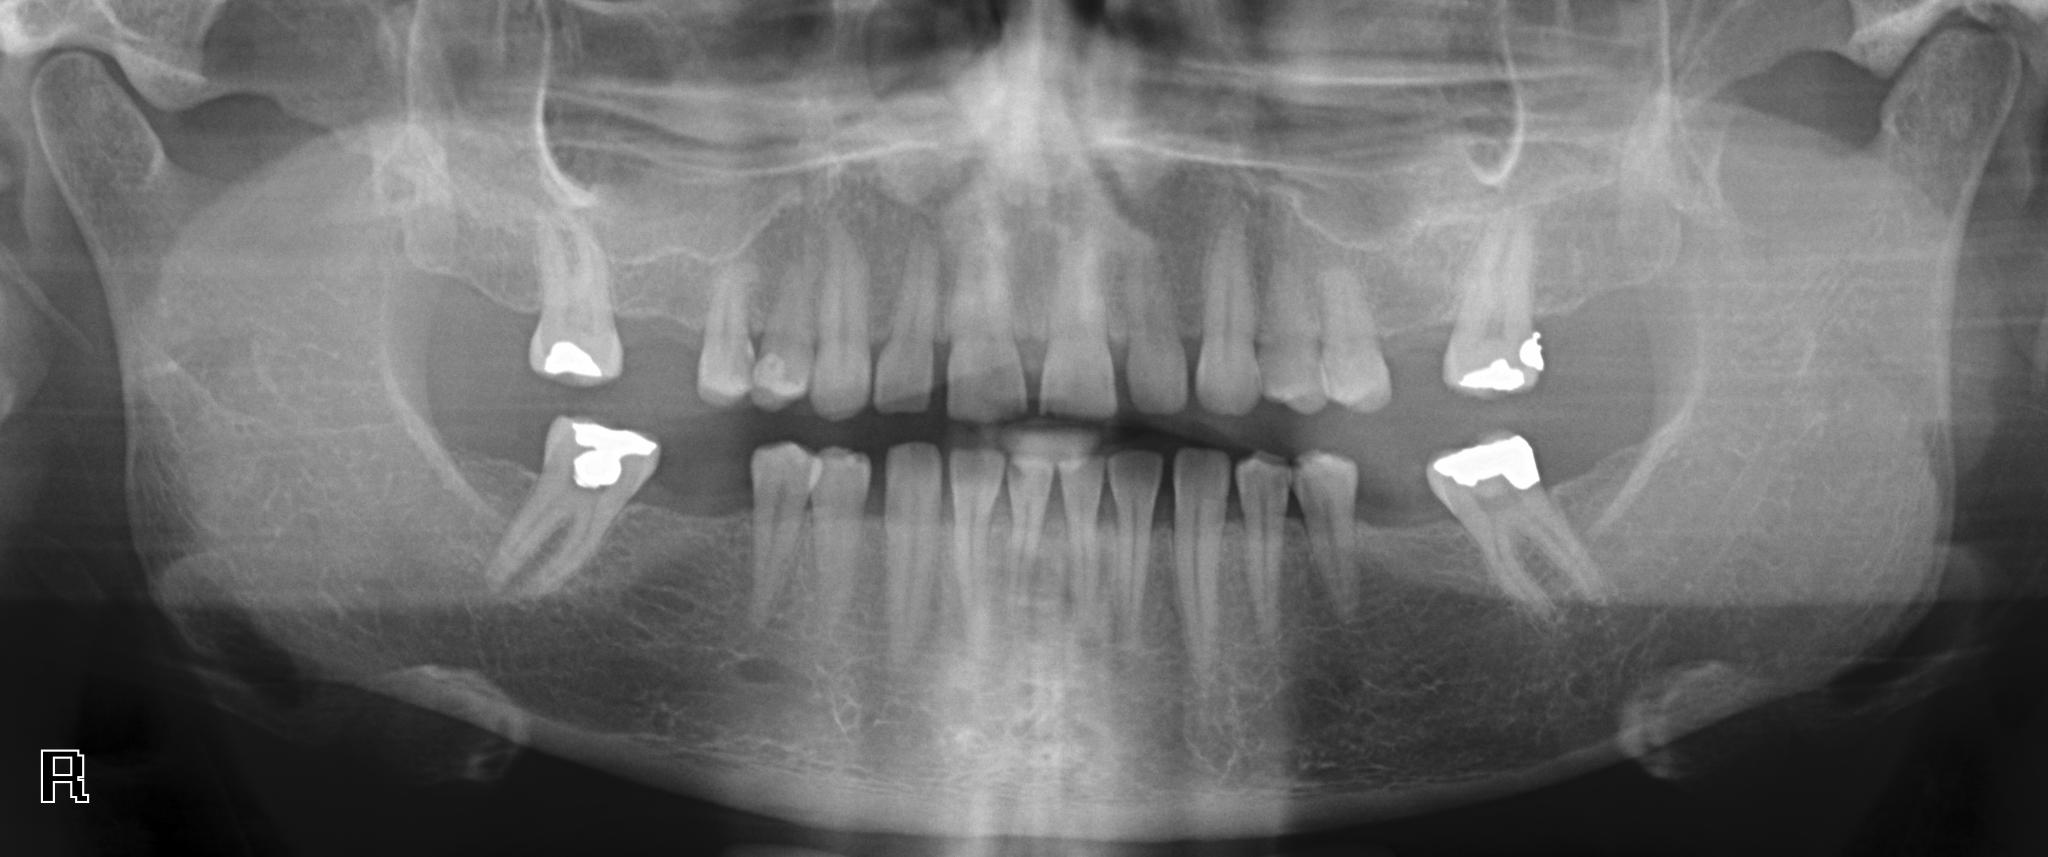Fillings: (1426, 431, 1600, 622), (494, 414, 660, 597), (1435, 227, 1543, 402), (525, 227, 623, 383)
